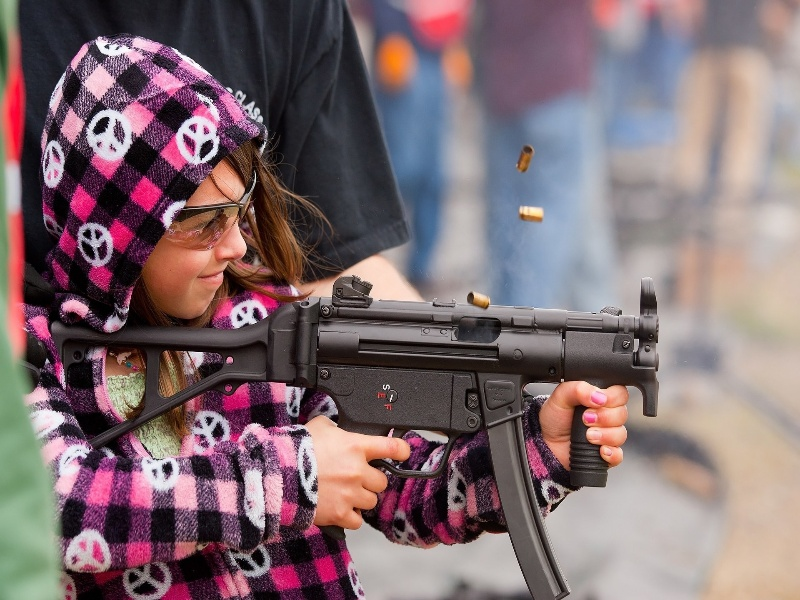person: (26, 32, 627, 600)
weapon: (48, 275, 659, 600)
